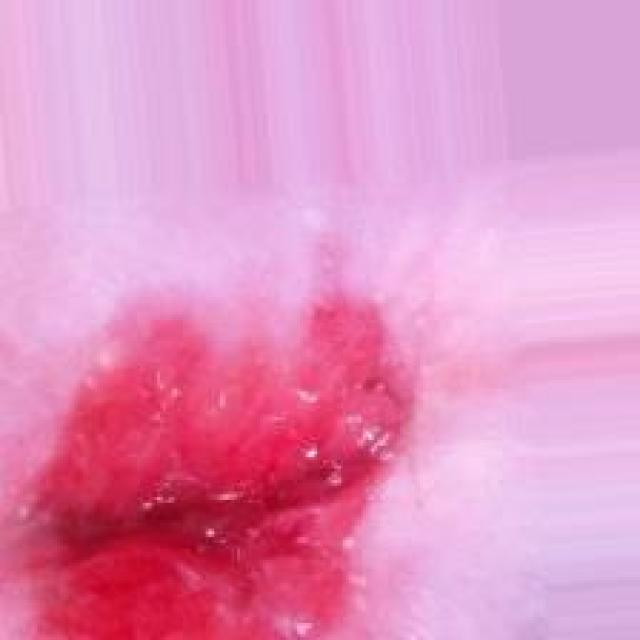type-1: (0, 68, 574, 640)
